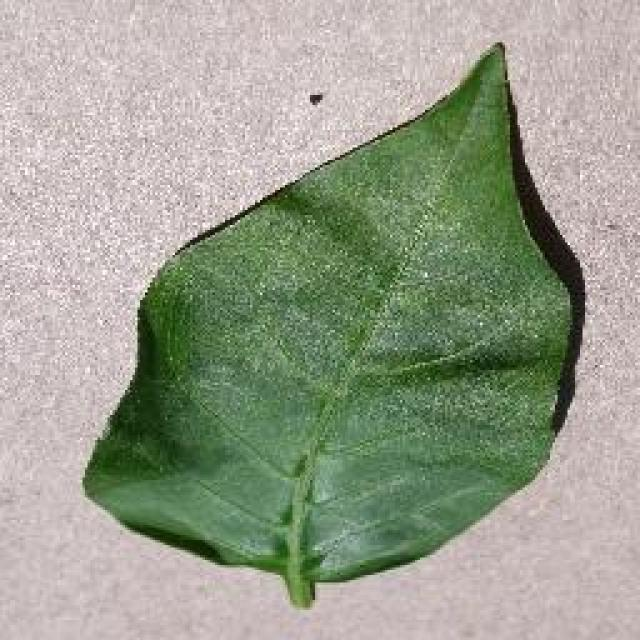Leaf: (104, 28, 624, 614)
